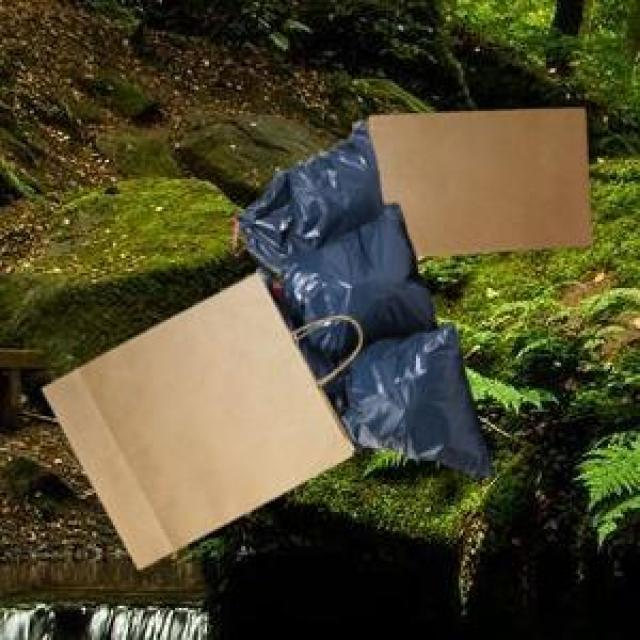miscellaneous trash: (230, 115, 490, 474)
paper: (38, 269, 350, 565), (361, 105, 587, 252)
